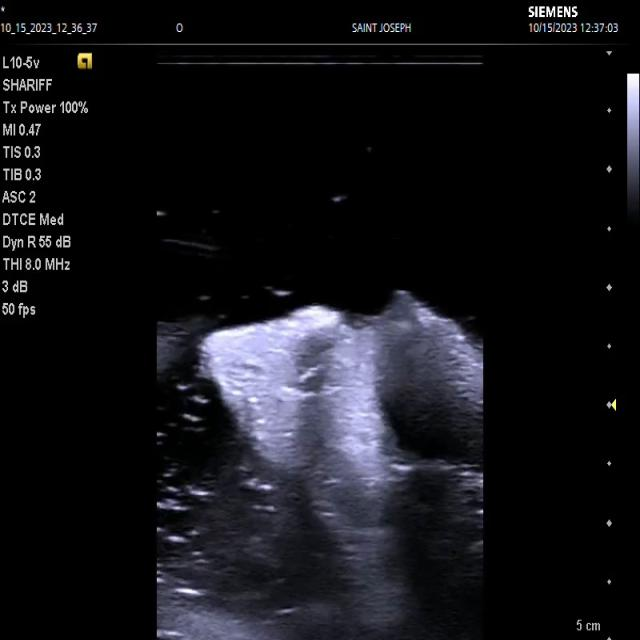tissue: (197, 293, 485, 624)
